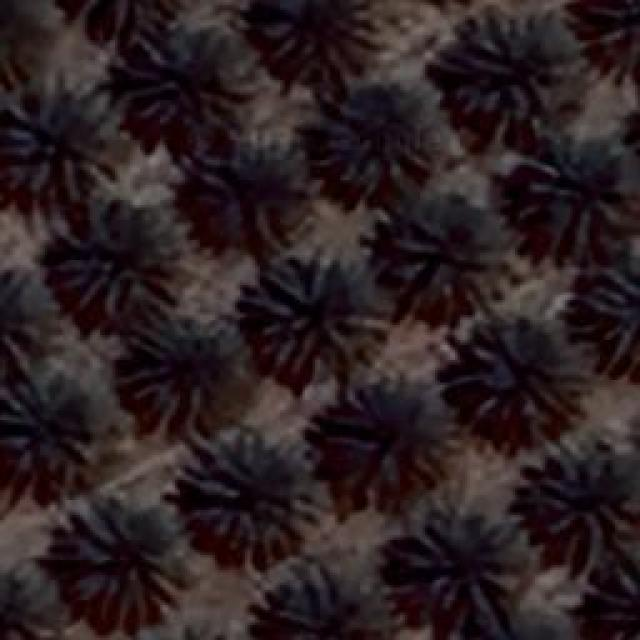PalmTree: (175, 126, 315, 254), (188, 430, 330, 552), (242, 258, 388, 372), (444, 12, 578, 128), (316, 379, 456, 489), (48, 210, 182, 322), (310, 78, 440, 192), (2, 88, 130, 200), (384, 192, 504, 306), (67, 500, 185, 610), (405, 510, 520, 622), (460, 318, 585, 418), (120, 30, 245, 128), (120, 314, 222, 428), (532, 434, 632, 548), (522, 130, 628, 228), (264, 560, 394, 638), (254, 0, 378, 78), (2, 368, 90, 470), (562, 0, 640, 88), (0, 270, 59, 372), (58, 0, 186, 44), (0, 0, 59, 91), (0, 556, 63, 640), (587, 260, 635, 370), (427, 612, 583, 640), (600, 564, 638, 638)
